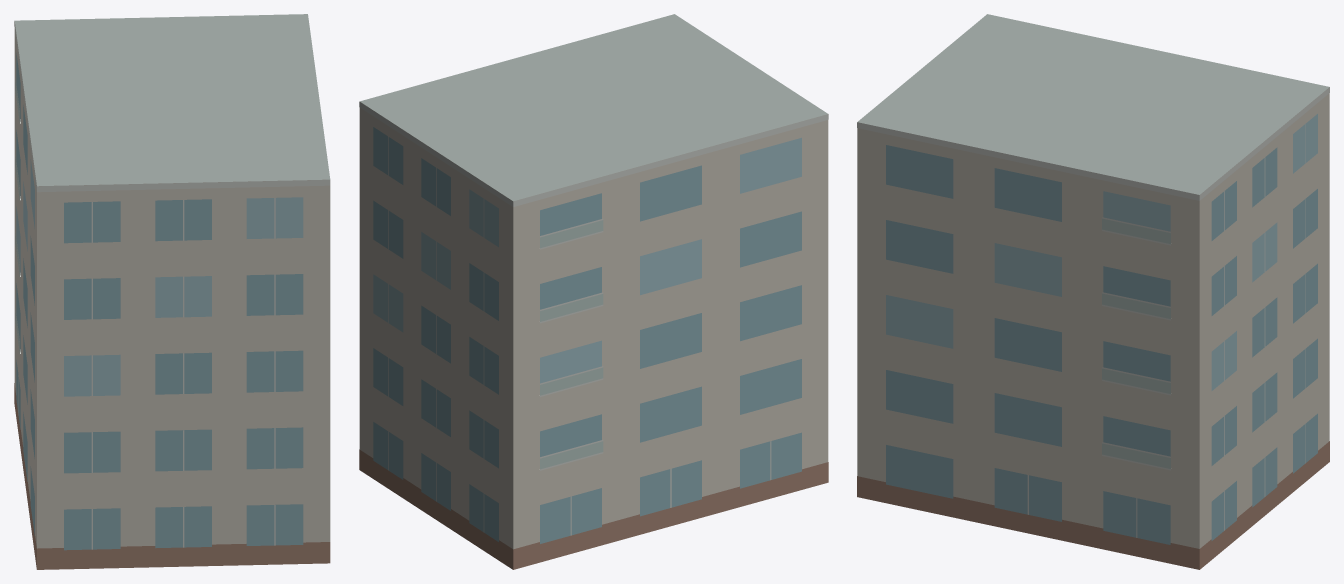
The model's file is survey-upis-32676025.glb.
The picture shows the model from 3 angles, left to right: view 1: azimuth 30°, elevation 25°; view 2: azimuth 150°, elevation 25°; view 3: azimuth 270°, elevation 25°; orthographic projection. The views are drawn at different scales.
Parts seen in each view (by area): view 1: survey-upis-32676025.tmp; view 2: survey-upis-32676025.tmp; view 3: survey-upis-32676025.tmp.
Part boxes in pixels (x1,y1,x2,y2): survey-upis-32676025.tmp: (14, 14, 330, 569); survey-upis-32676025.tmp: (359, 14, 828, 569); survey-upis-32676025.tmp: (857, 14, 1329, 569).
Size of the model in its own units: 15.95 by 15.4 by 17.61.
